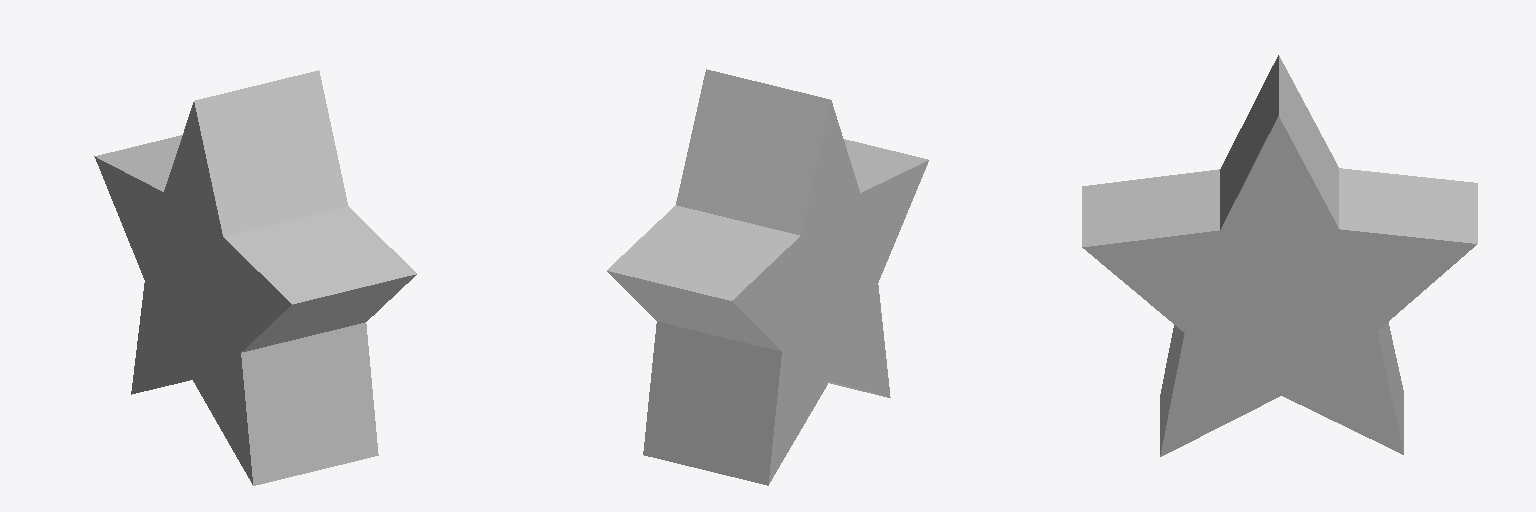
The model's file is star.obj.
The picture shows the model from 3 angles: view 1: azimuth 30°, elevation 25°; view 2: azimuth 150°, elevation 25°; view 3: azimuth 270°, elevation 25°; orthographic projection.
Visible parts, largest first — view 1: 円; view 2: 円; view 3: 円.
Part boxes in pixels (left/top/right/bottom): 円: left=94, top=70, right=416, bottom=485; 円: left=607, top=69, right=928, bottom=485; 円: left=1082, top=55, right=1477, bottom=456.
Bounding box in the file's own units: 0.9765 × 2.55 × 2.67.